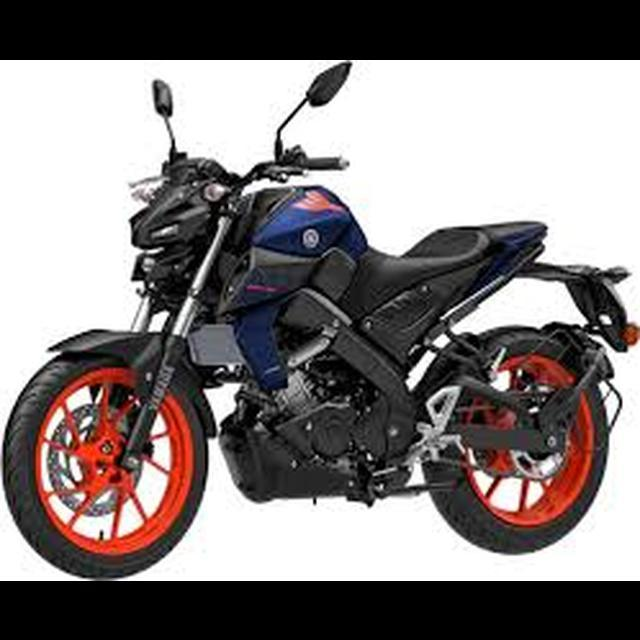motorcycle: (0, 59, 640, 583)
